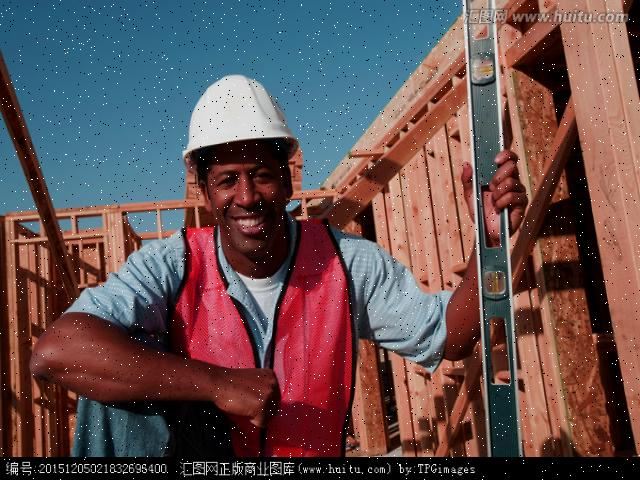Helmet: (178, 67, 302, 177)
